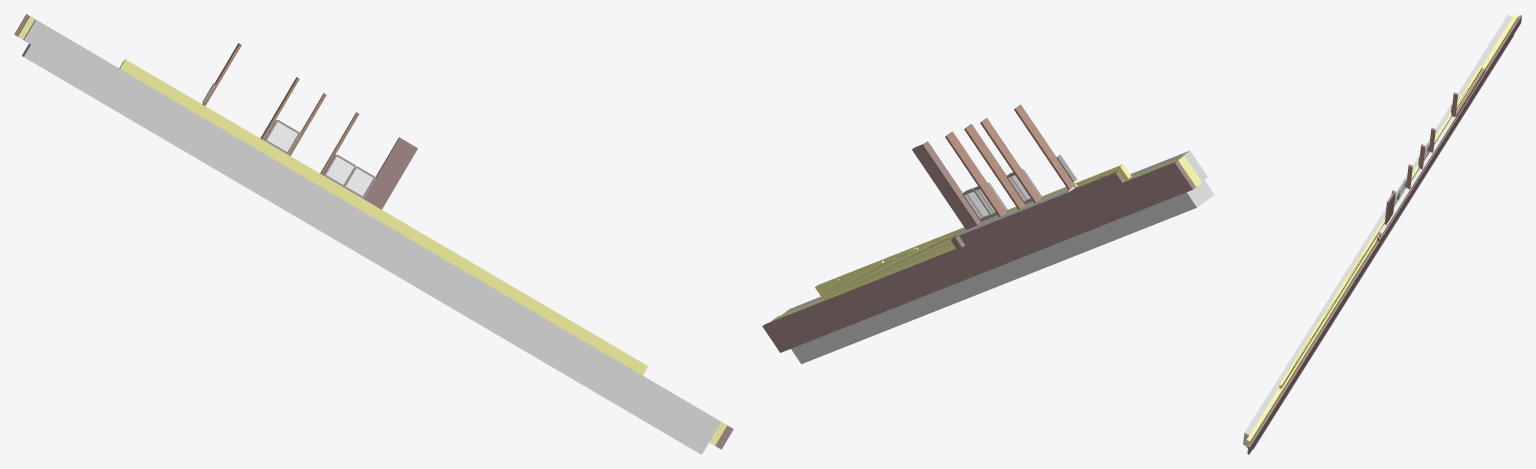
3 renders of one model, left to right at view 1: azimuth 30°, elevation 25°; view 2: azimuth 150°, elevation 25°; view 3: azimuth 270°, elevation 25°, orthographic. The views are drawn at different scales.
Visible parts, largest first — view 1: mesh; view 2: mesh; view 3: mesh.
Part boxes in pixels (x1=…): mesh: x1=14, y1=14, x2=733, y2=454; mesh: x1=762, y1=104, x2=1214, y2=363; mesh: x1=1243, y1=14, x2=1521, y2=454.
Size of the model in its own units: 21.13 by 15.93 by 14.45.
